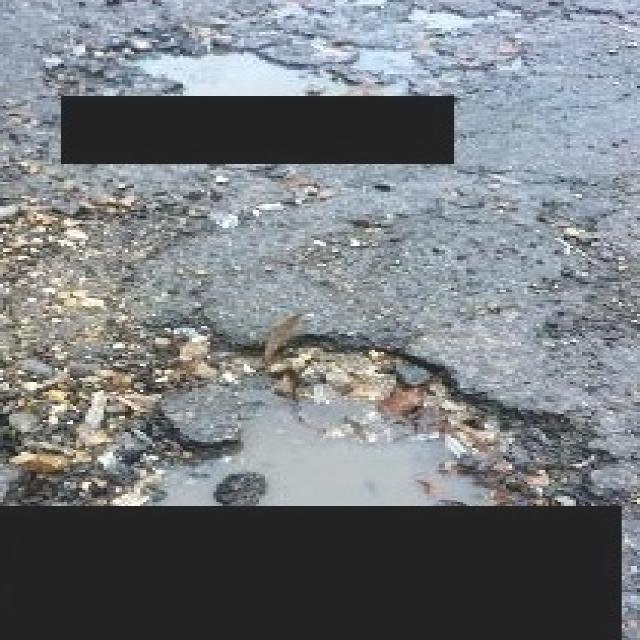road-pothole: (24, 333, 605, 505)
